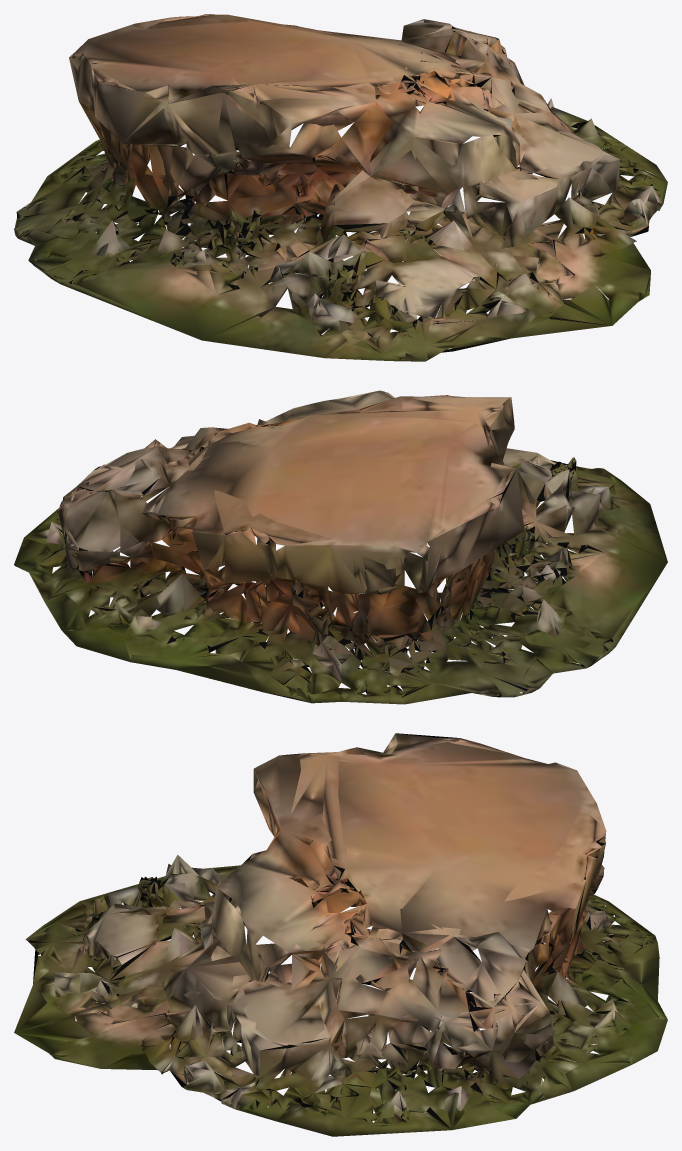
File: mesa_land.glb
The picture shows the model from 3 angles, top to bottom: view 1: azimuth 30°, elevation 25°; view 2: azimuth 150°, elevation 25°; view 3: azimuth 270°, elevation 25°; orthographic projection.
Visible parts, largest first — view 1: mesa_land_00; view 2: mesa_land_00; view 3: mesa_land_00.
Part boxes in pixels (x1=…): mesa_land_00: x1=14, y1=14, x2=667, y2=361; mesa_land_00: x1=14, y1=390, x2=667, y2=704; mesa_land_00: x1=14, y1=733, x2=667, y2=1136.
Size of the model in its own units: 1.88 by 0.5717 by 1.85.
Materials: 1 (1 with a texture image).
